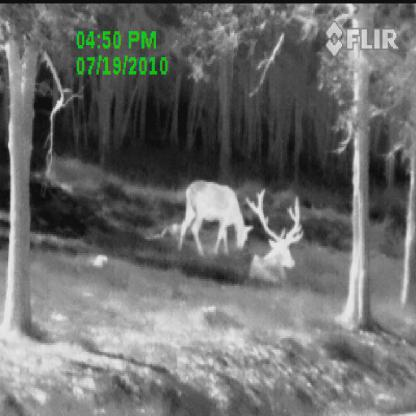rehkitze: (181, 181, 252, 254), (255, 190, 307, 285)
